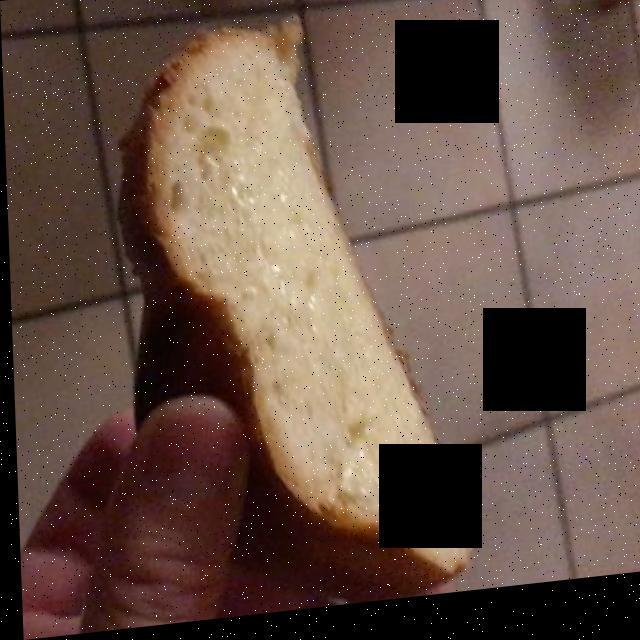bread: (135, 34, 462, 589)
butter: (194, 97, 421, 529)
